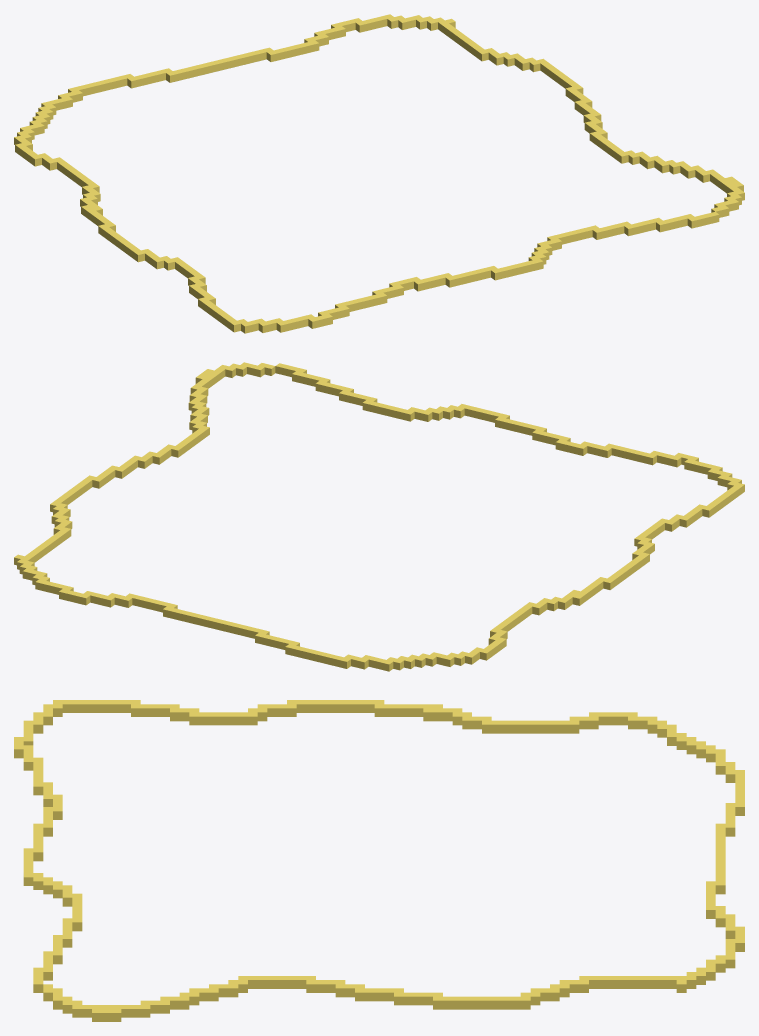
File: beach_2_overtile.glb
3 renders of one model, top to bottom at view 1: azimuth 30°, elevation 25°; view 2: azimuth 150°, elevation 25°; view 3: azimuth 270°, elevation 25°, orthographic. The views are drawn at different scales.
Visible parts, largest first — view 1: beach_2_overtile; view 2: beach_2_overtile; view 3: beach_2_overtile.
Part boxes in pixels (x1,y1,x2,y2): beach_2_overtile: (14,14,744,333); beach_2_overtile: (14,362,744,671); beach_2_overtile: (14,700,744,1021).
Size of the model in its own units: 7.6 by 0.1 by 7.5.
Materials: 1 (1 with a texture image).
